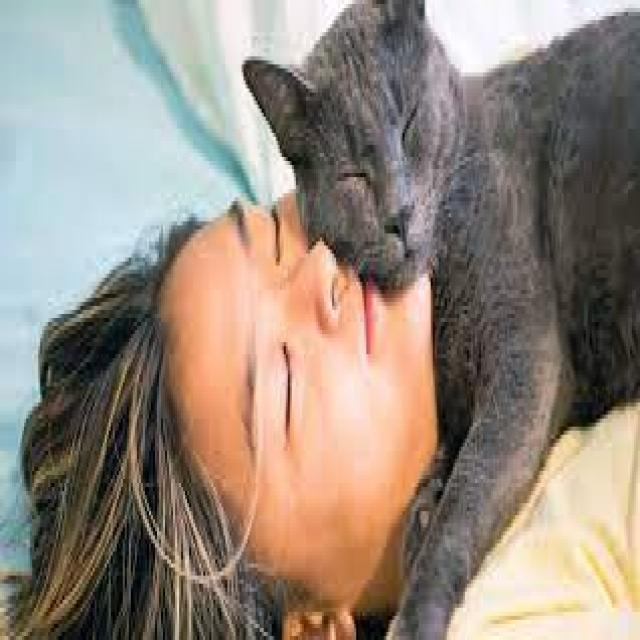Cat: (236, 0, 640, 640)
